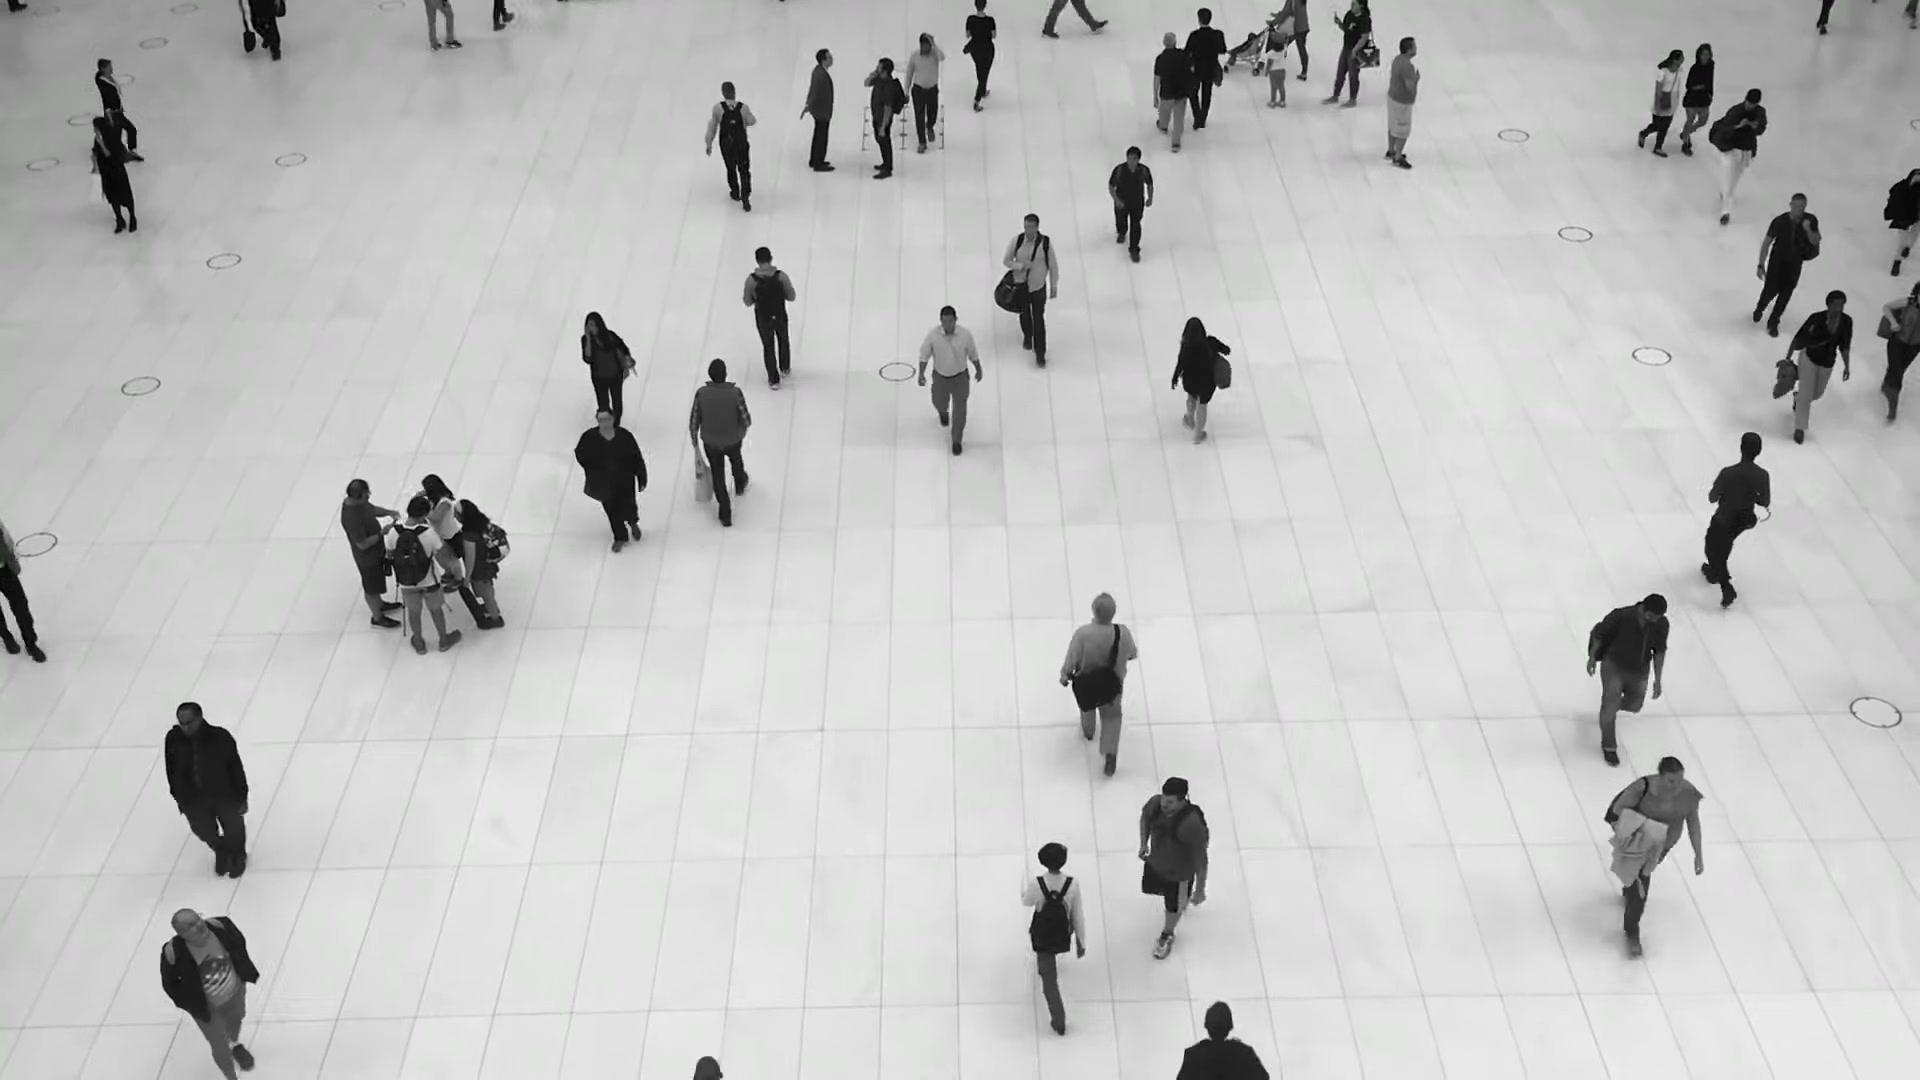person: (1605, 756, 1703, 949), (159, 908, 260, 1079), (163, 702, 251, 885), (1585, 594, 1670, 772), (1059, 591, 1138, 778), (1135, 778, 1210, 964), (1019, 840, 1090, 1034), (1696, 430, 1770, 610), (385, 496, 460, 655), (1779, 291, 1853, 449), (574, 409, 648, 556), (1750, 193, 1821, 341), (689, 356, 752, 523), (917, 306, 982, 458), (340, 478, 401, 631), (1002, 214, 1058, 365), (1709, 87, 1768, 225), (743, 246, 797, 389), (703, 81, 758, 215), (1171, 315, 1229, 441), (453, 498, 505, 630), (1874, 276, 1920, 419), (580, 311, 632, 423), (1107, 145, 1155, 262), (1182, 7, 1226, 131), (1324, 0, 1372, 112), (92, 117, 137, 234), (1637, 49, 1683, 159), (1383, 35, 1421, 169), (905, 32, 946, 155), (863, 57, 903, 180), (1152, 30, 1193, 151), (421, 473, 460, 594), (1675, 43, 1716, 157), (799, 48, 836, 172), (94, 57, 138, 140), (965, 0, 997, 112), (1266, 0, 1310, 80), (1264, 37, 1287, 109)
